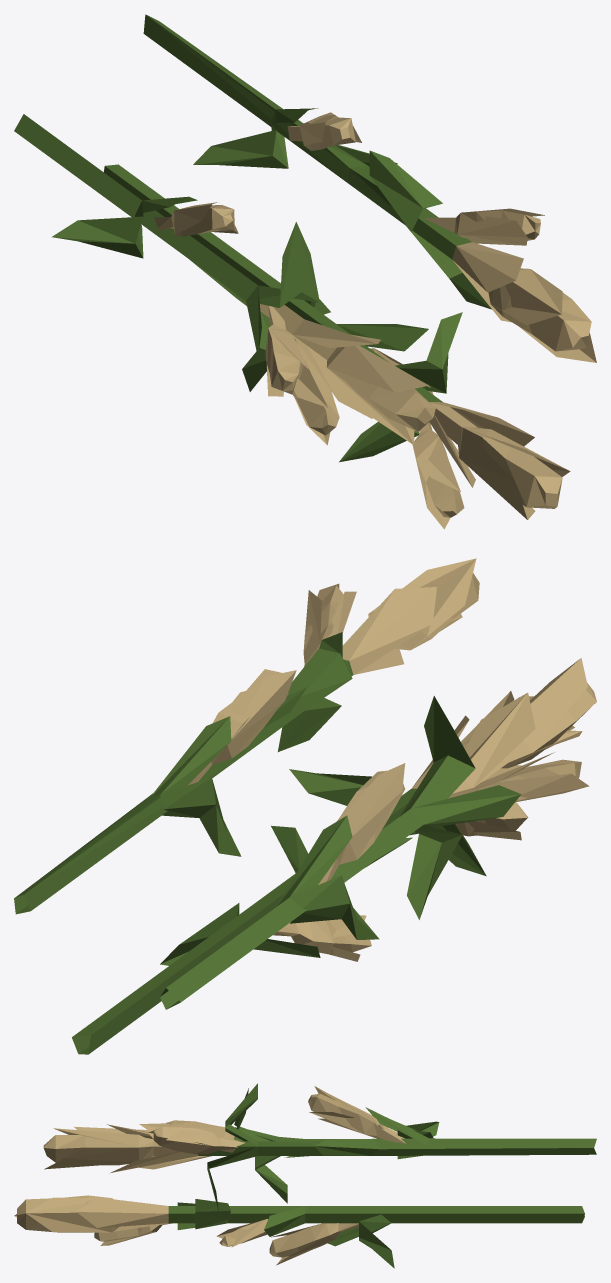
File: stage_3.obj
3 views of the same model, one above another, from view 1: azimuth 30°, elevation 25°; view 2: azimuth 150°, elevation 25°; view 3: azimuth 270°, elevation 25° (orthographic). The views are drawn at different scales.
Parts seen in each view (by area): view 1: cornplant; view 2: cornplant; view 3: cornplant.
Part boxes in pixels (left/top/right/bottom): cornplant: left=14, top=14, right=596, bottom=529; cornplant: left=14, top=558, right=596, bottom=1054; cornplant: left=14, top=1083, right=596, bottom=1268.
Bounding box in the file's own units: 0.7 × 0.71 × 1.96.
